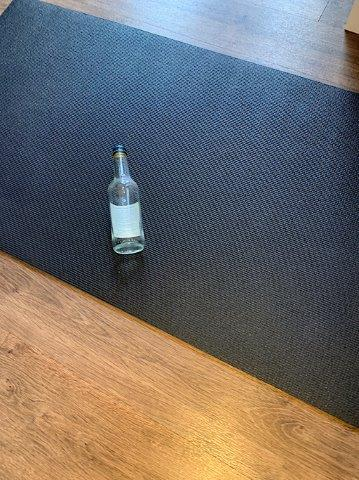botolkaca: (109, 146, 145, 251)
